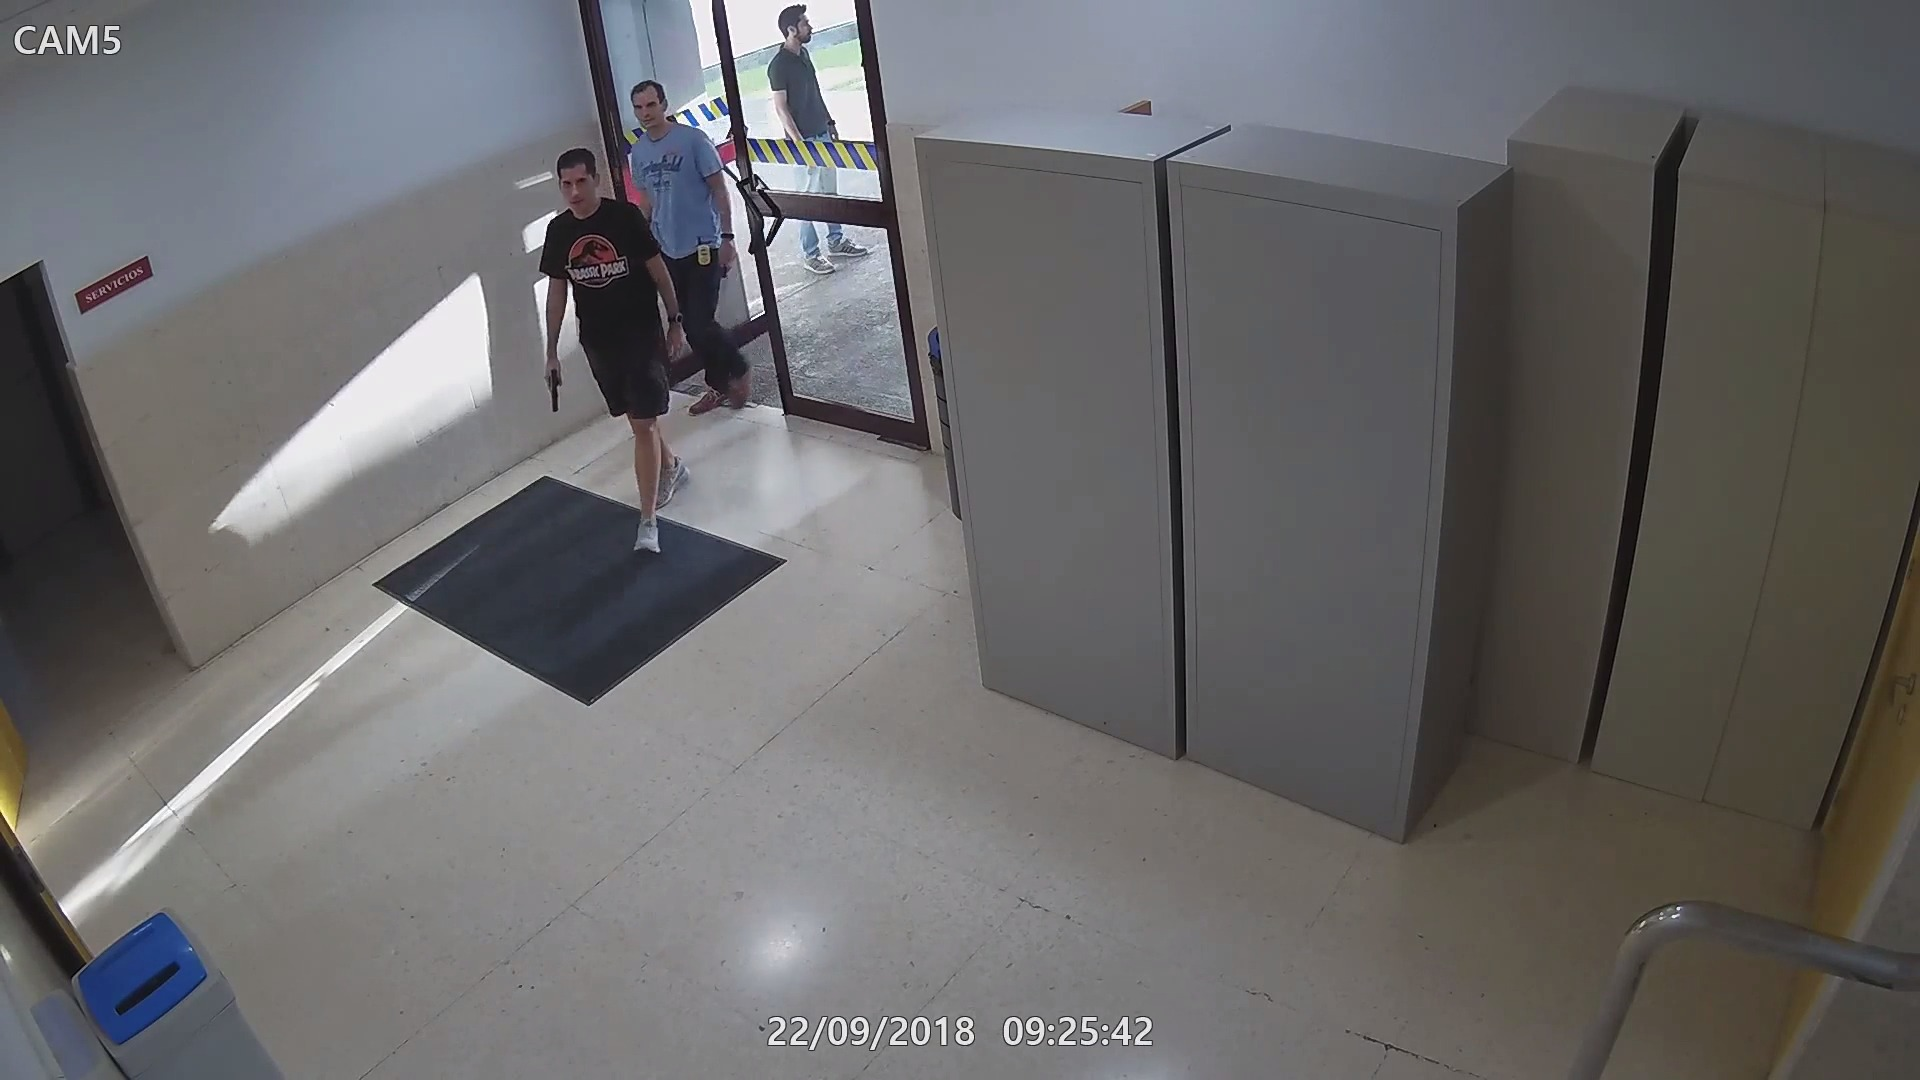Handgun: (535, 356, 562, 426)
Knife: (691, 239, 728, 330)
